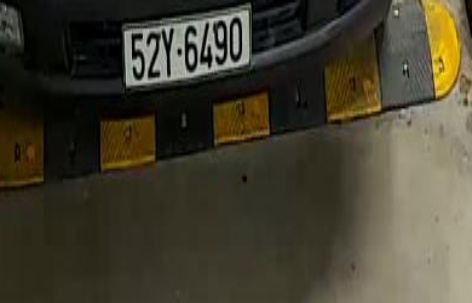plate: (120, 10, 255, 80)
